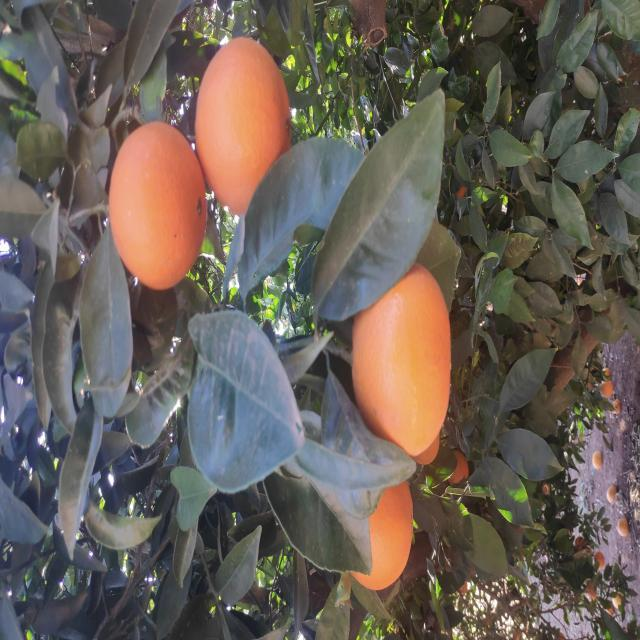Jeruk Sudah Matang: (179, 350, 374, 451), (422, 196, 606, 292), (349, 108, 516, 206), (53, 348, 163, 411), (172, 418, 208, 443), (152, 450, 190, 468), (439, 455, 456, 468)
